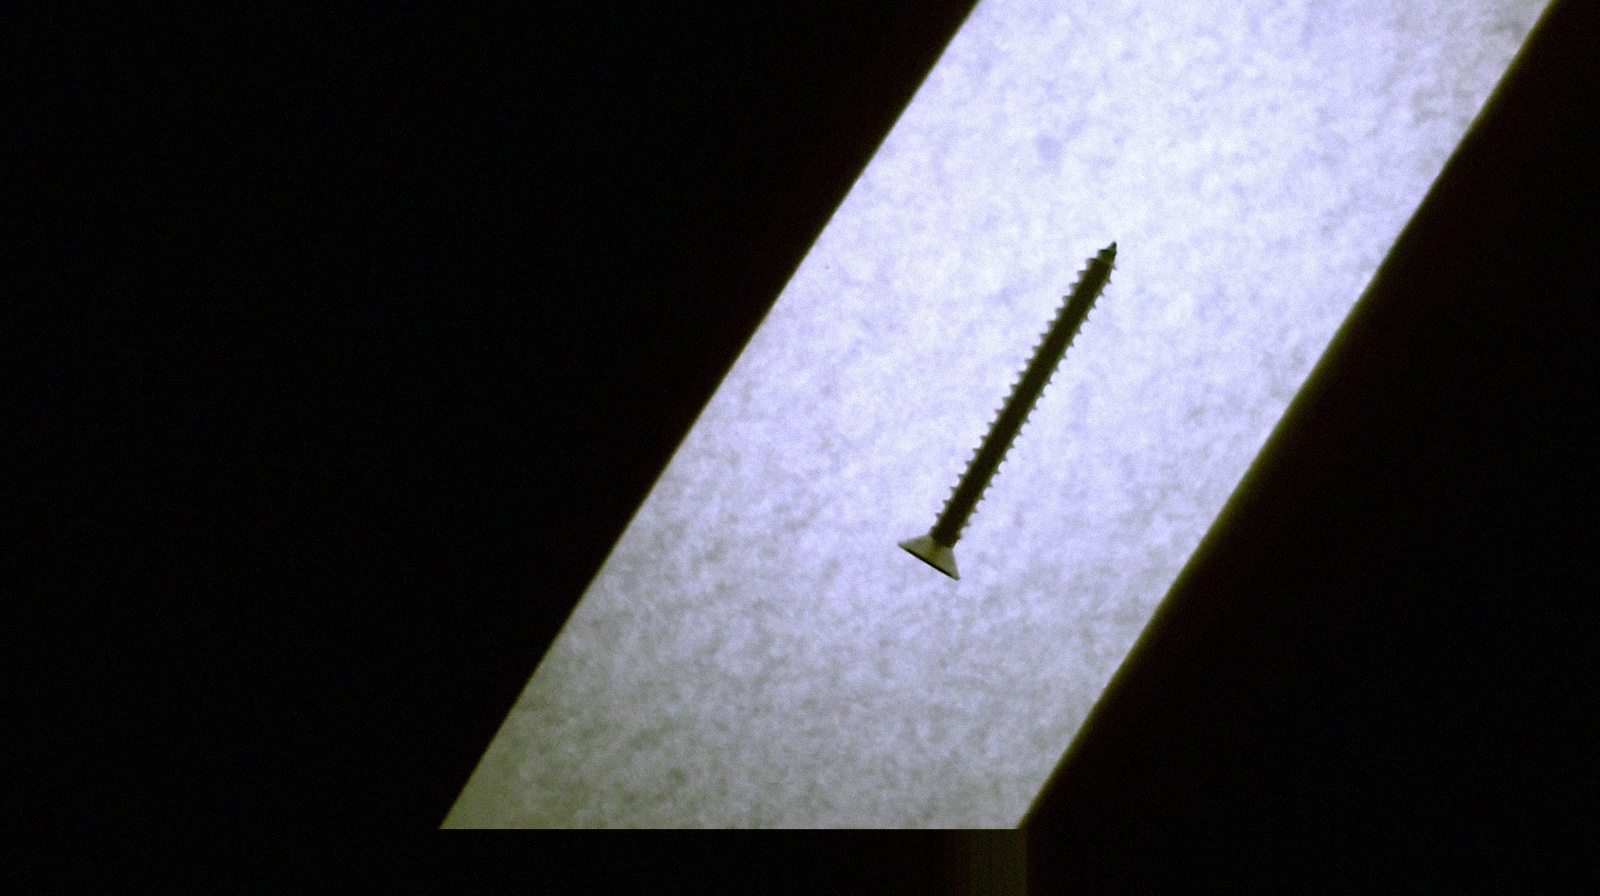S002: (882, 217, 1142, 597)
